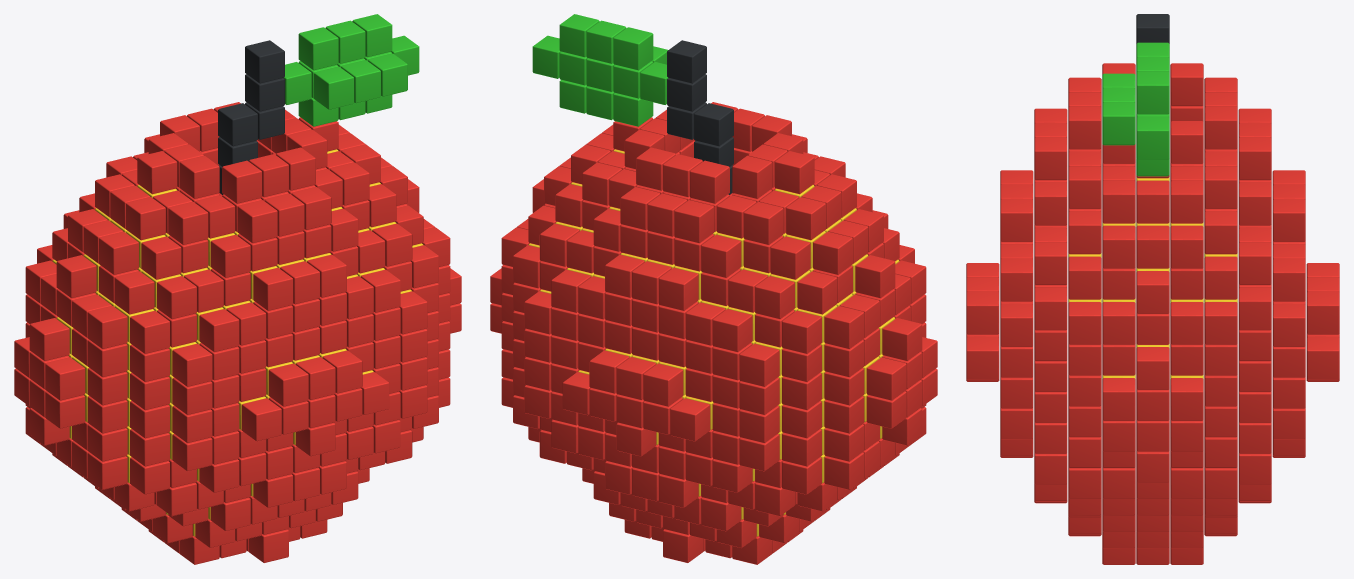
Rendered from Apple_Voxel_Level02.fbx.
3 renders of one model, left to right at view 1: azimuth 30°, elevation 25°; view 2: azimuth 150°, elevation 25°; view 3: azimuth 270°, elevation 25°, orthographic. The views are drawn at different scales.
Visible parts, largest first — view 1: AppleV2_Voxel_0119_Red, AppleV2_Voxel_0488_Red, AppleV2_Voxel_0536_Red, AppleV2_Voxel_0001_Green, AppleV2_Voxel_0028_Red, AppleV2_Voxel_0069_Red, AppleV2_Voxel_0167_Red, AppleV2_Voxel_0308_Red, AppleV2_Voxel_0413_Red, AppleV2_Voxel_0655_Red, AppleV2_Voxel_0010_Green, AppleV2_Voxel_0023_Red (+122 smaller); view 2: AppleV2_Voxel_0077_Red, AppleV2_Voxel_0422_Red, AppleV2_Voxel_0458_Red, AppleV2_Voxel_0001_Green, AppleV2_Voxel_0021_Red, AppleV2_Voxel_0033_Red, AppleV2_Voxel_0167_Red, AppleV2_Voxel_0214_Red, AppleV2_Voxel_0315_Red, AppleV2_Voxel_0539_Red, AppleV2_Voxel_0023_Red, AppleV2_Voxel_0036_Red (+124 smaller); view 3: AppleV2_Voxel_0003_Green, AppleV2_Voxel_0048_Red, AppleV2_Voxel_0061_Red, AppleV2_Voxel_0020_Red, AppleV2_Voxel_0032_Red, AppleV2_Voxel_0035_Red, AppleV2_Voxel_0055_Red, AppleV2_Voxel_0071_Red, AppleV2_Voxel_0076_Red, AppleV2_Voxel_0085_Red, AppleV2_Voxel_0127_Red, AppleV2_Voxel_0132_Red (+126 smaller).
Boxes of the visible parts, x1=… form: AppleV2_Voxel_0119_Red: x1=141, y1=236, x2=181, y2=279; AppleV2_Voxel_0488_Red: x1=45, y1=357, x2=85, y2=400; AppleV2_Voxel_0536_Red: x1=268, y1=363, x2=308, y2=406; AppleV2_Voxel_0001_Green: x1=298, y1=27, x2=338, y2=70; AppleV2_Voxel_0028_Red: x1=179, y1=155, x2=219, y2=198; AppleV2_Voxel_0069_Red: x1=237, y1=200, x2=277, y2=243; AppleV2_Voxel_0167_Red: x1=56, y1=255, x2=96, y2=298; AppleV2_Voxel_0308_Red: x1=199, y1=309, x2=239, y2=352; AppleV2_Voxel_0413_Red: x1=172, y1=343, x2=212, y2=386; AppleV2_Voxel_0655_Red: x1=241, y1=398, x2=281, y2=441; AppleV2_Voxel_0010_Green: x1=314, y1=66, x2=354, y2=109; AppleV2_Voxel_0023_Red: x1=137, y1=151, x2=177, y2=194; AppleV2_Voxel_0077_Red: x1=770, y1=236, x2=810, y2=279; AppleV2_Voxel_0422_Red: x1=643, y1=363, x2=683, y2=406; AppleV2_Voxel_0458_Red: x1=866, y1=357, x2=906, y2=400; AppleV2_Voxel_0001_Green: x1=613, y1=27, x2=653, y2=70; AppleV2_Voxel_0021_Red: x1=732, y1=155, x2=772, y2=198; AppleV2_Voxel_0033_Red: x1=674, y1=200, x2=714, y2=243; AppleV2_Voxel_0167_Red: x1=855, y1=255, x2=895, y2=298; AppleV2_Voxel_0214_Red: x1=712, y1=309, x2=752, y2=352; AppleV2_Voxel_0315_Red: x1=739, y1=343, x2=779, y2=386; AppleV2_Voxel_0539_Red: x1=670, y1=398, x2=710, y2=441; AppleV2_Voxel_0023_Red: x1=774, y1=151, x2=814, y2=194; AppleV2_Voxel_0036_Red: x1=743, y1=202, x2=783, y2=244; AppleV2_Voxel_0003_Green: x1=1136, y1=71, x2=1169, y2=114; AppleV2_Voxel_0048_Red: x1=1170, y1=180, x2=1203, y2=223; AppleV2_Voxel_0061_Red: x1=1102, y1=180, x2=1135, y2=223; AppleV2_Voxel_0020_Red: x1=1204, y1=106, x2=1237, y2=149; AppleV2_Voxel_0032_Red: x1=1068, y1=106, x2=1101, y2=149; AppleV2_Voxel_0035_Red: x1=1238, y1=137, x2=1271, y2=180; AppleV2_Voxel_0055_Red: x1=1136, y1=180, x2=1169, y2=223; AppleV2_Voxel_0071_Red: x1=1034, y1=137, x2=1067, y2=180; AppleV2_Voxel_0076_Red: x1=1238, y1=182, x2=1271, y2=225; AppleV2_Voxel_0085_Red: x1=1204, y1=211, x2=1237, y2=254; AppleV2_Voxel_0127_Red: x1=1068, y1=211, x2=1101, y2=254; AppleV2_Voxel_0132_Red: x1=1034, y1=182, x2=1067, y2=225.
Size of the model in its own units: 329 by 373 by 241.
